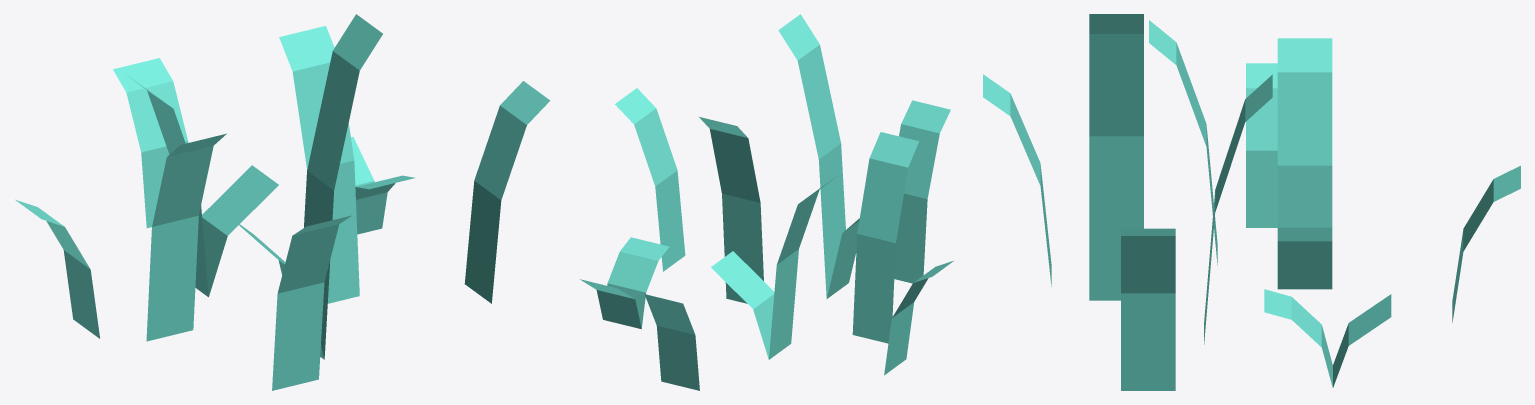
File: grasbuschel_0.glb
3 renders of one model, left to right at view 1: azimuth 30°, elevation 25°; view 2: azimuth 150°, elevation 25°; view 3: azimuth 270°, elevation 25°, orthographic. The views are drawn at different scales.
Parts seen in each view (by area): view 1: grass; view 2: grass; view 3: grass.
Part boxes in pixels (x1,y1,x2,y2): grass: [15, 14, 550, 390]; grass: [580, 14, 953, 390]; grass: [983, 14, 1520, 390].
Size of the model in its own units: 0.3811 by 0.254 by 0.3922.
